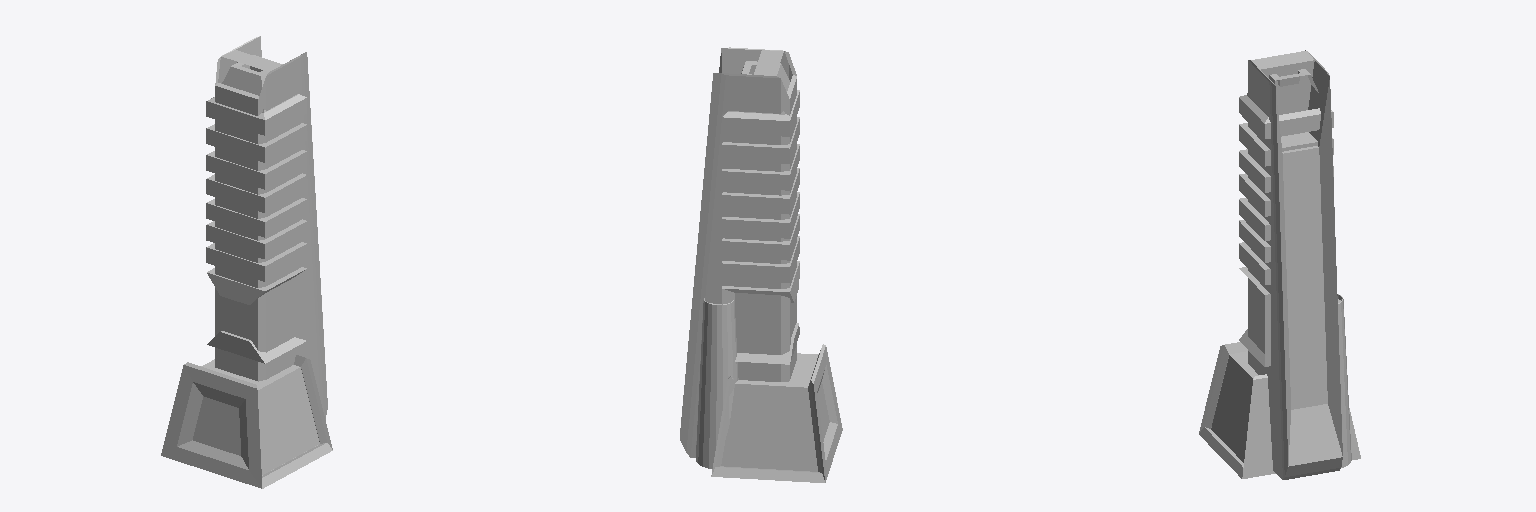
File: building4.obj
3 renders of one model, left to right at view 1: azimuth 30°, elevation 25°; view 2: azimuth 150°, elevation 25°; view 3: azimuth 270°, elevation 25°, orthographic.
Visible parts, largest first — view 1: Downtown_Center_City.267_Downtown_Center_City.328; view 2: Downtown_Center_City.267_Downtown_Center_City.328; view 3: Downtown_Center_City.267_Downtown_Center_City.328.
Boxes of the visible parts, <box> form: Downtown_Center_City.267_Downtown_Center_City.328: <box>161,36,332,488</box>; Downtown_Center_City.267_Downtown_Center_City.328: <box>680,47,842,482</box>; Downtown_Center_City.267_Downtown_Center_City.328: <box>1199,50,1360,479</box>.
Size of the model in its own units: 33.66 by 82.18 by 31.08.